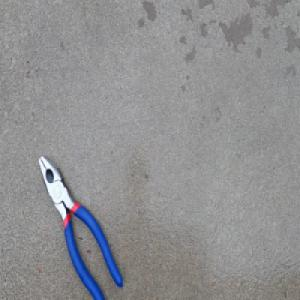Pliers: (37, 153, 124, 300)
